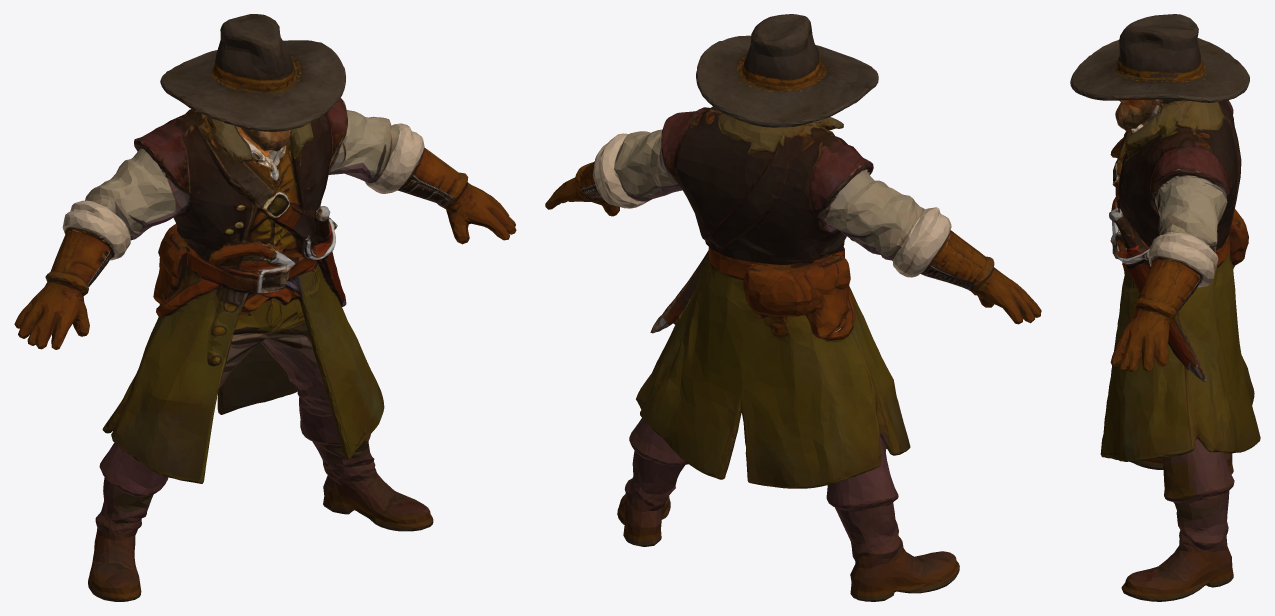
Rendered from paladin.glb.
3 renders of one model, left to right at view 1: azimuth 30°, elevation 25°; view 2: azimuth 150°, elevation 25°; view 3: azimuth 270°, elevation 25°, orthographic. The views are drawn at different scales.
Visible parts, largest first — view 1: textured_mesh.obj; view 2: textured_mesh.obj; view 3: textured_mesh.obj.
Boxes of the visible parts, box(x1,y1,x2,y2) form: textured_mesh.obj: box(14, 14, 516, 601); textured_mesh.obj: box(545, 14, 1041, 601); textured_mesh.obj: box(1070, 14, 1260, 601).
Bounding box in the file's own units: 1.91 × 1.98 × 0.6747.
1 material, 1 textured.
